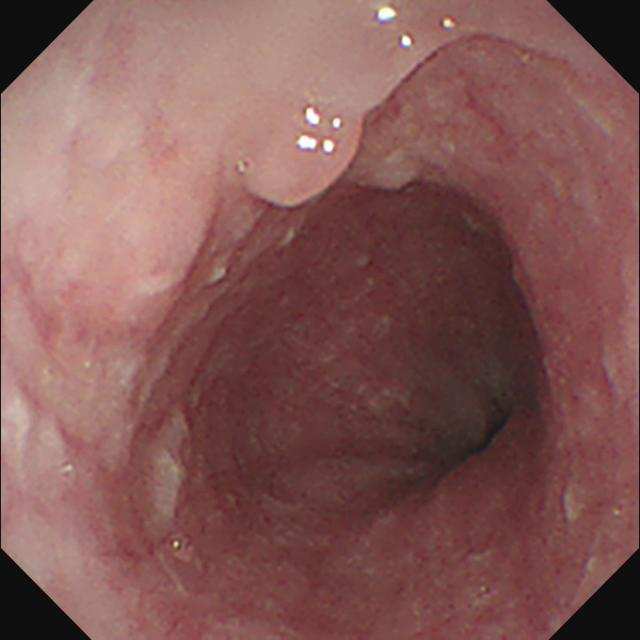A: (516, 274, 624, 510), (220, 478, 344, 621), (244, 97, 369, 224), (344, 91, 460, 204)
J: (153, 409, 195, 518)
U: (297, 137, 338, 155), (376, 6, 401, 23), (305, 107, 324, 128), (400, 34, 415, 50), (332, 117, 343, 129)
